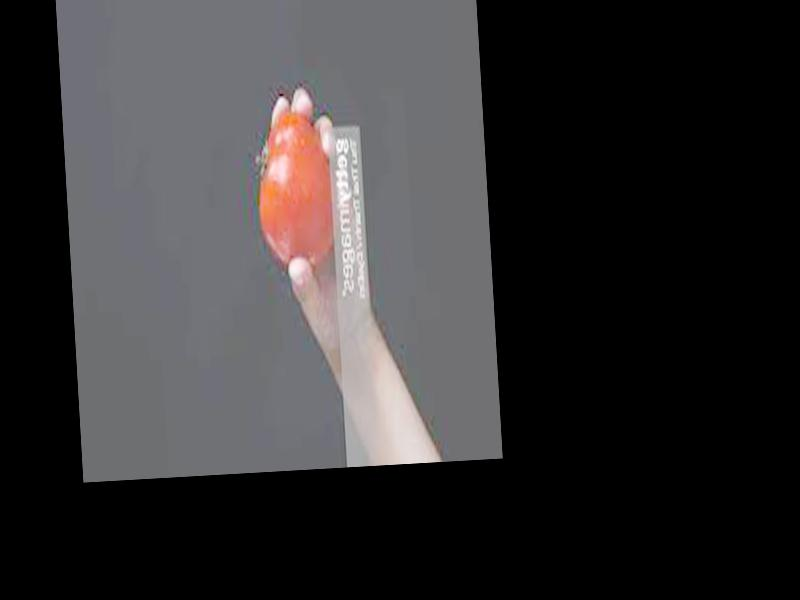Tomato: (253, 104, 338, 264)
